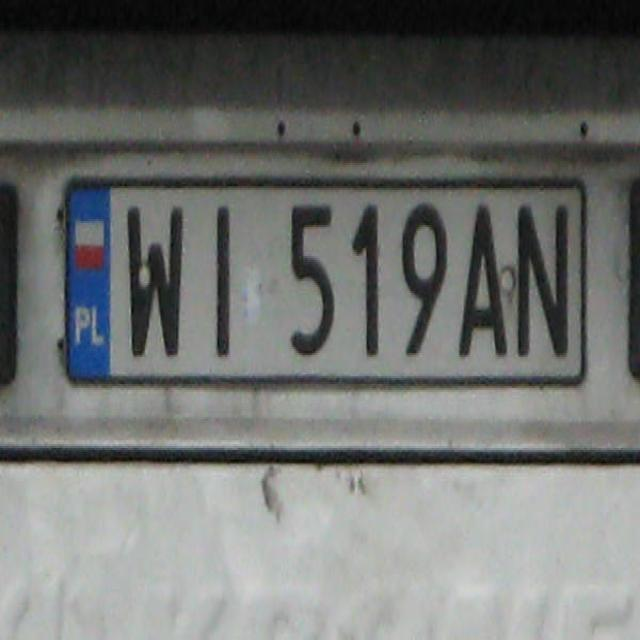pl_license_plate: (70, 187, 580, 370)
